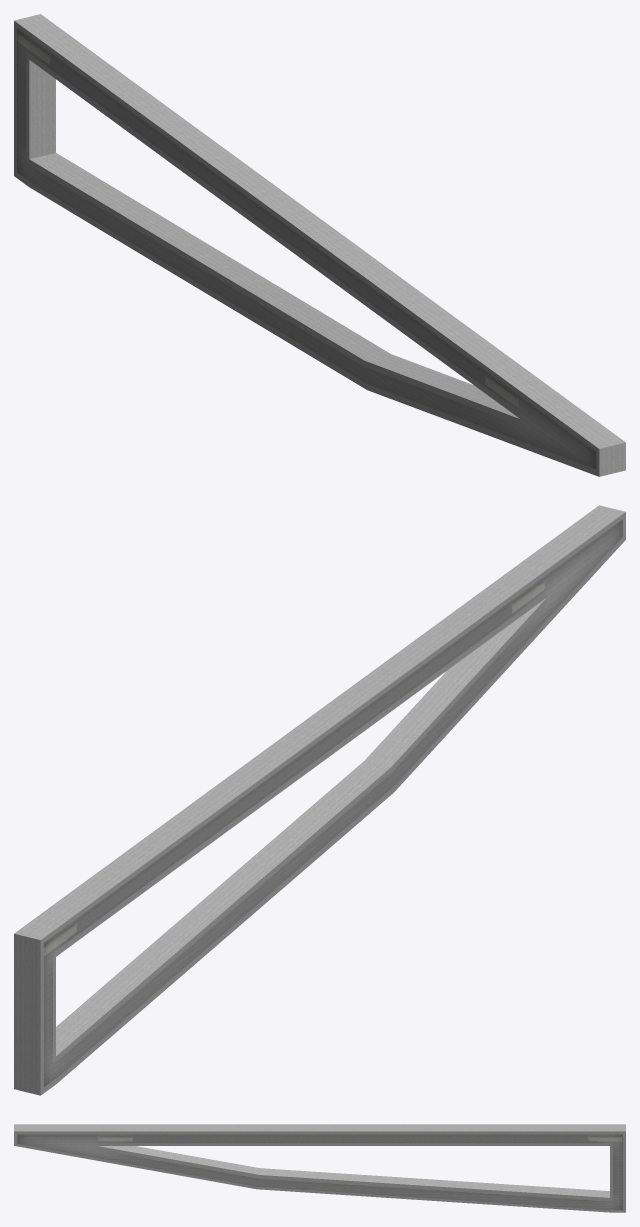
File: Rack_01_02.FBX
3 renders of one model, top to bottom at view 1: azimuth 30°, elevation 25°; view 2: azimuth 150°, elevation 25°; view 3: azimuth 270°, elevation 25°, orthographic. The views are drawn at different scales.
Parts seen in each view (by area): view 1: Rack_01_02; view 2: Rack_01_02; view 3: Rack_01_02.
Boxes of the visible parts, left/top/right/bottom form: Rack_01_02: left=14, top=14, right=625, bottom=476; Rack_01_02: left=14, top=505, right=625, bottom=1095; Rack_01_02: left=14, top=1124, right=625, bottom=1212.
Size of the model in its own units: 0.5 by 2.78 by 18.97.
